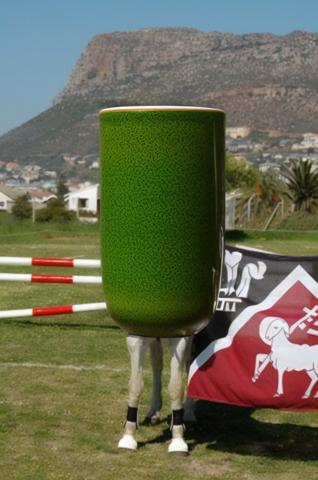horse: (116, 176, 212, 458)
pottedplant: (99, 101, 225, 337)
